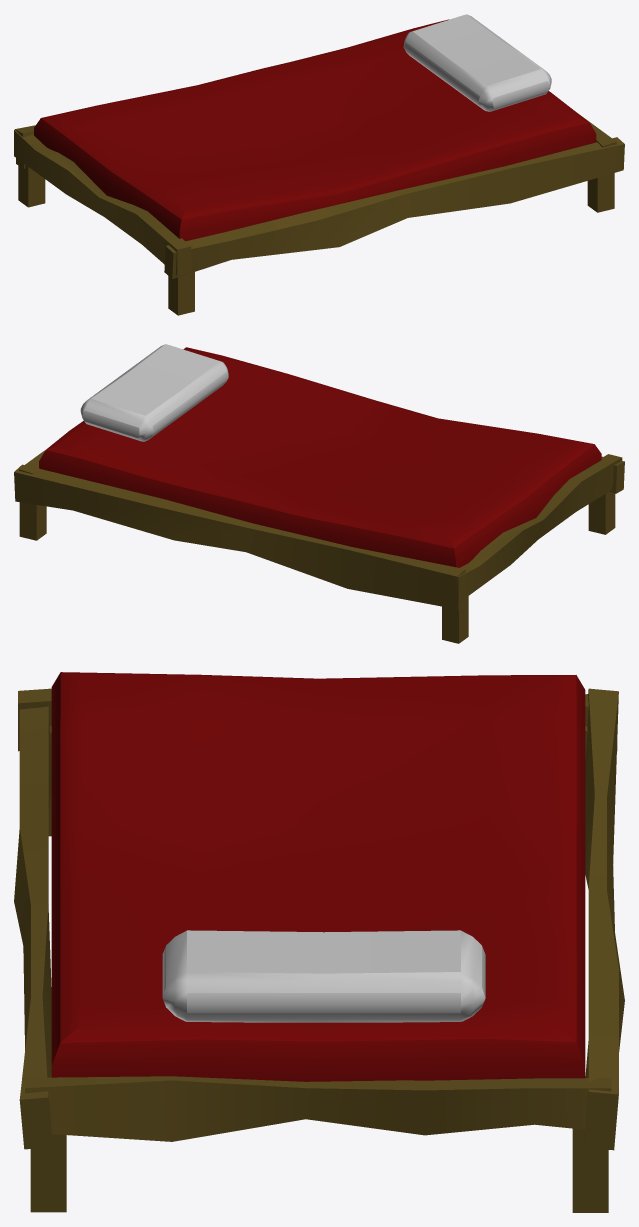
File: PLayer_Bed.fbx
3 views of the same model, one above another, from view 1: azimuth 30°, elevation 25°; view 2: azimuth 150°, elevation 25°; view 3: azimuth 270°, elevation 25° (orthographic). The views are drawn at different scales.
Parts seen in each view (by area): view 1: polySurface7; view 2: polySurface7; view 3: polySurface7.
Part boxes in pixels (left/top/right/bottom): polySurface7: left=14, top=14, right=624, bottom=315; polySurface7: left=14, top=344, right=624, bottom=643; polySurface7: left=14, top=672, right=624, bottom=1212.
Size of the model in its own units: 34.93 by 8.54 by 22.2.
